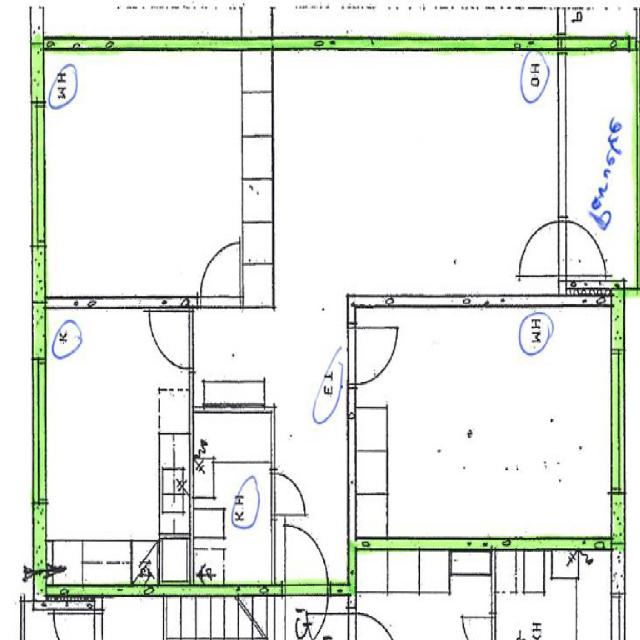door: (286, 526, 328, 596), (202, 239, 240, 306), (150, 311, 193, 369), (349, 329, 395, 383), (559, 222, 604, 276), (521, 222, 566, 276), (286, 585, 328, 640), (272, 474, 304, 516)
